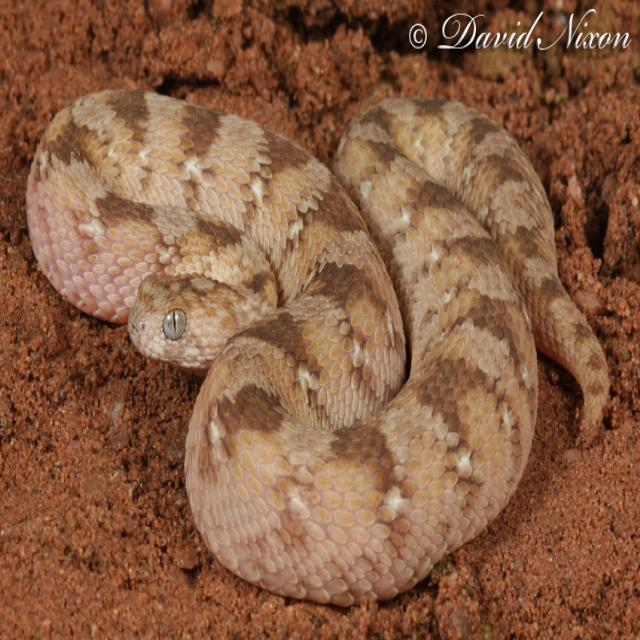Snake: (22, 81, 600, 610)
